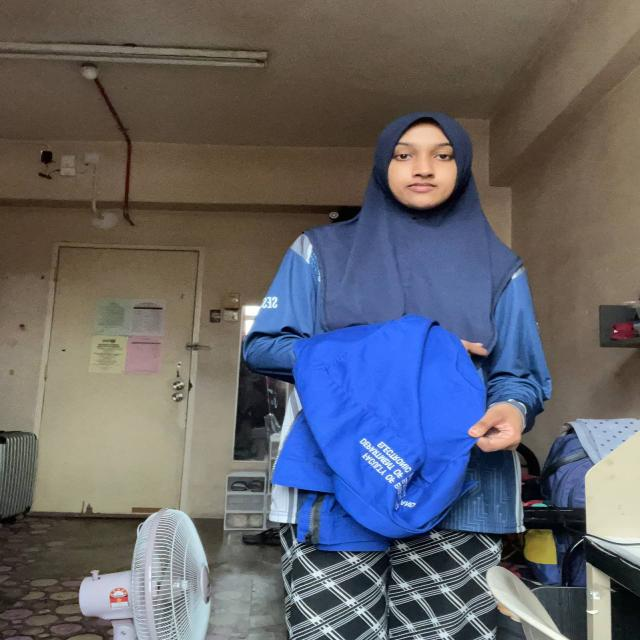person_without_labcoat: (244, 113, 551, 640)
